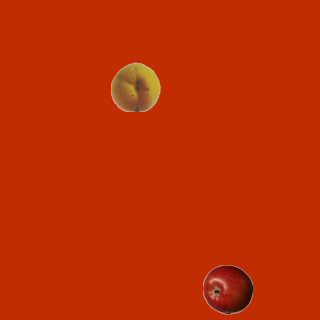Apple Braeburn: (202, 264, 252, 314)
Peach 2: (110, 61, 160, 111)
